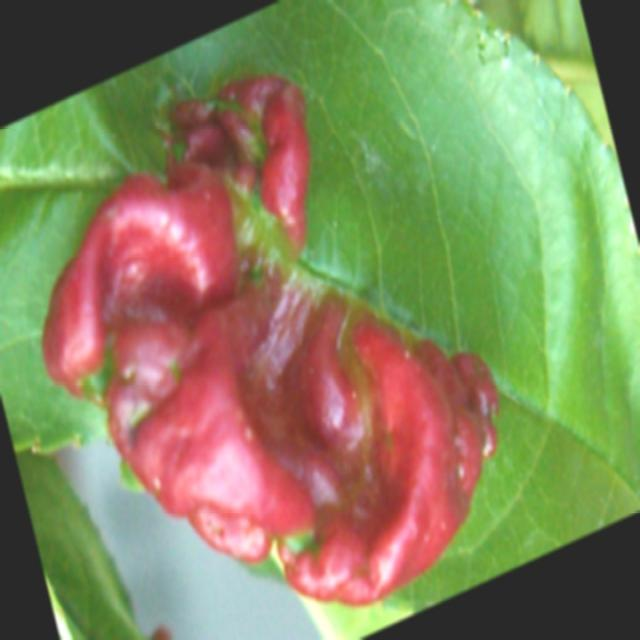peach_leaf_curl: (40, 71, 501, 607)
